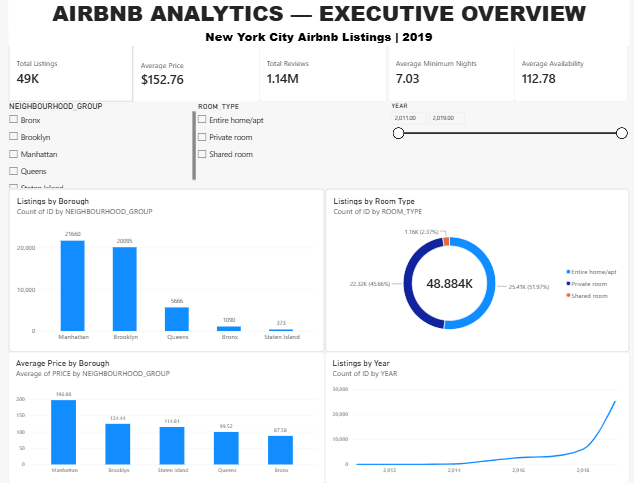

The page's visual inventory and layout, read from the dashboard file:
{"tool":"powerbi","page":{"name":"Executive Overview","canvas":[1920,1080],"ordinal":0},"visuals":[{"type":"cardVisual","fields":{"Data":["CountNonNull(FACT_LISTINGS.ID)"]},"box":[269.2,100,276.9,130.8],"z":0},{"type":"cardVisual","fields":{"Data":["Avg(FACT_LISTINGS.PRICE)"]},"box":[546.2,102.6,282.1,128.2],"z":1000},{"type":"cardVisual","fields":{"Data":["Sum(FACT_LISTINGS.NUMBER_OF_REVIEWS)"]},"box":[828.2,100,284.6,130.8],"z":2000},{"type":"cardVisual","fields":{"Data":["Avg(FACT_LISTINGS.MINIMUM_NIGHTS)"]},"box":[1112.8,100,282.1,130.8],"z":3000},{"type":"cardVisual","fields":{"Data":["Avg(FACT_LISTINGS.AVAILABILITY_365)"]},"box":[1394.9,100,253.8,130.8],"z":4000},{"type":"clusteredColumnChart","title":"Listings by Borough","fields":{"Category":["DIM_LOCATION.NEIGHBOURHOOD_GROUP"],"Y":["CountNonNull(FACT_LISTINGS.ID)"]},"box":[269.2,423.1,702.6,364.1],"z":5000},{"type":"donutChart","title":"Listings by Room Type","fields":{"Category":["DIM_ROOM_TYPE.ROOM_TYPE"],"Y":["CountNonNull(FACT_LISTINGS.ID)"]},"box":[971.8,423.1,676.9,364.1],"z":6000},{"type":"slicer","fields":{"Values":["DIM_LOCATION.NEIGHBOURHOOD_GROUP"]},"box":[265.2,231.1,488.4,191.7],"z":7000},{"type":"slicer","fields":{"Values":["DIM_ROOM_TYPE.ROOM_TYPE"]},"box":[753.6,231.1,357.1,191.7],"z":8000},{"type":"slicer","fields":{"Values":["DIM_DATE.YEAR"]},"box":[1110.6,231.1,538.3,191.7],"z":9000},{"type":"clusteredColumnChart","title":"Average Price by Borough","fields":{"Category":["DIM_LOCATION.NEIGHBOURHOOD_GROUP"],"Y":["Avg(FACT_LISTINGS.PRICE)"]},"box":[269.2,787.2,702.6,292.3],"z":10000},{"type":"lineChart","title":"Listings by Year","fields":{"Category":["DIM_DATE.YEAR"],"Y":["CountNonNull(FACT_LISTINGS.ID)"]},"box":[971.8,787.2,676.9,292.3],"z":11000},{"type":"shape","title":"AIRBNB ANALYTICS — EXECUTIVE OVERVIEW ","box":[270.4,0,1378.5,128.7],"z":12000}]}

Visuals, with their boxes on the page's 1920x1080 design canvas (x1, y1, x2, y2). These are canvas units, not pixel positions in the 634x483 screenshot, which may show the page scaled, cropped or inside an application window:
cardVisual - CountNonNull(FACT_LISTINGS.ID): [x1=269, y1=100, x2=546, y2=231]
cardVisual - Avg(FACT_LISTINGS.PRICE): [x1=546, y1=103, x2=828, y2=231]
cardVisual - Sum(FACT_LISTINGS.NUMBER_OF_REVIEWS): [x1=828, y1=100, x2=1113, y2=231]
cardVisual - Avg(FACT_LISTINGS.MINIMUM_NIGHTS): [x1=1113, y1=100, x2=1395, y2=231]
cardVisual - Avg(FACT_LISTINGS.AVAILABILITY_365): [x1=1395, y1=100, x2=1649, y2=231]
"Listings by Borough" clusteredColumnChart: [x1=269, y1=423, x2=972, y2=787]
"Listings by Room Type" donutChart: [x1=972, y1=423, x2=1649, y2=787]
slicer - DIM_LOCATION.NEIGHBOURHOOD_GROUP: [x1=265, y1=231, x2=754, y2=423]
slicer - DIM_ROOM_TYPE.ROOM_TYPE: [x1=754, y1=231, x2=1111, y2=423]
slicer - DIM_DATE.YEAR: [x1=1111, y1=231, x2=1649, y2=423]
"Average Price by Borough" clusteredColumnChart: [x1=269, y1=787, x2=972, y2=1080]
"Listings by Year" lineChart: [x1=972, y1=787, x2=1649, y2=1080]
"AIRBNB ANALYTICS — EXECUTIVE OVERVIEW " shape: [x1=270, y1=0, x2=1649, y2=129]
